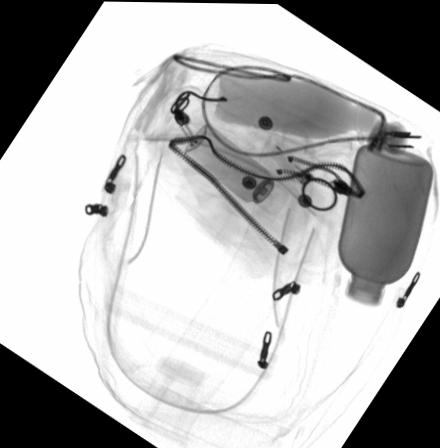Lighter: (267, 141, 321, 189)
Sprayer: (183, 120, 290, 215)
